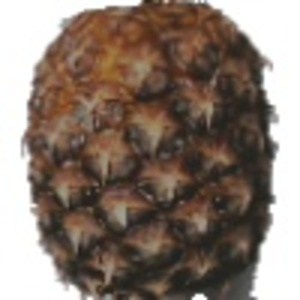abacaxi: (16, 3, 275, 294)
